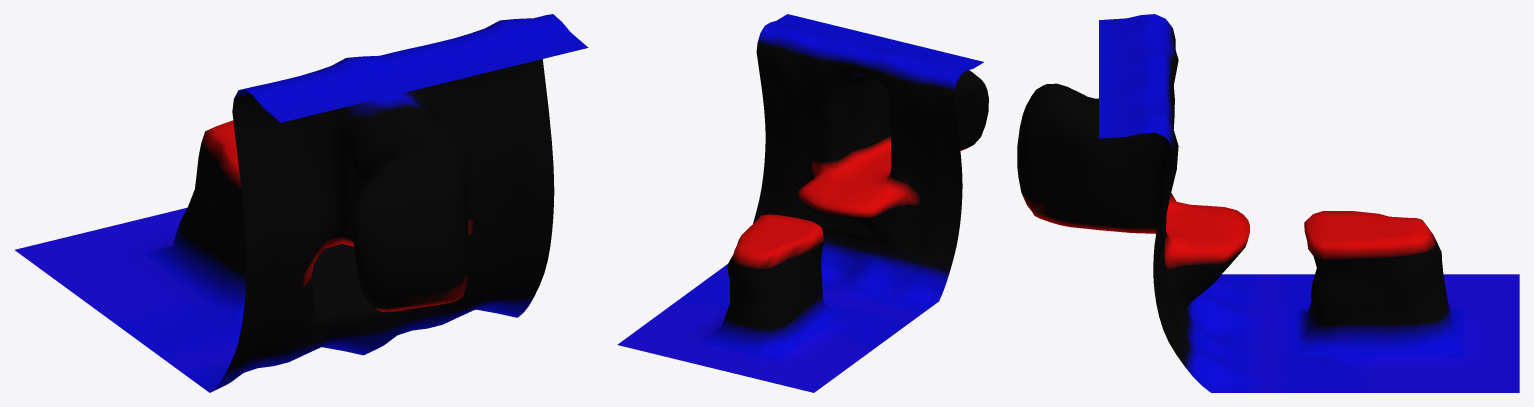
Rendered from WaterFallCliff02D 3M.fbx.
3 views of the same model, side by side, from view 1: azimuth 30°, elevation 25°; view 2: azimuth 150°, elevation 25°; view 3: azimuth 270°, elevation 25° (orthographic). The views are drawn at different scales.
Parts seen in each view (by area): view 1: WaterFallCliff02D 3M; view 2: WaterFallCliff02D 3M; view 3: WaterFallCliff02D 3M.
Boxes of the visible parts, left/top/right/bottom form: WaterFallCliff02D 3M: left=15, top=14, right=588, bottom=392; WaterFallCliff02D 3M: left=617, top=14, right=988, bottom=392; WaterFallCliff02D 3M: left=1017, top=14, right=1519, bottom=392.
Size of the model in its own units: 2 by 2.07 by 3.58.
